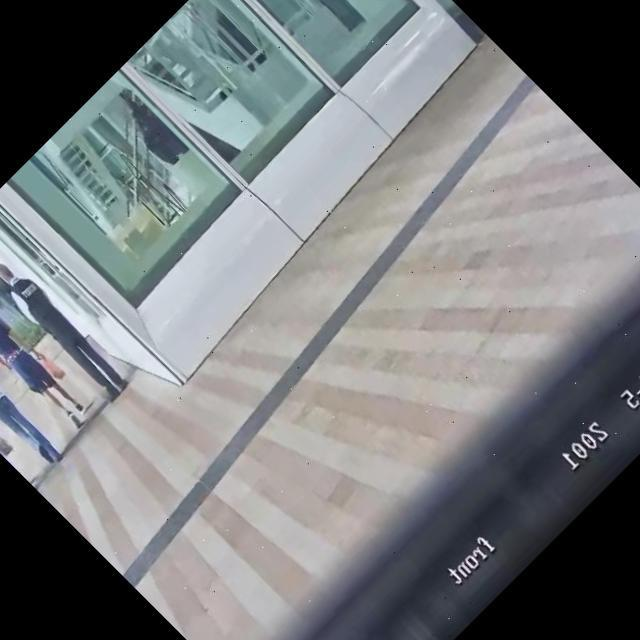person: (0, 251, 134, 403), (0, 285, 95, 433), (0, 323, 67, 475), (0, 366, 37, 483)
